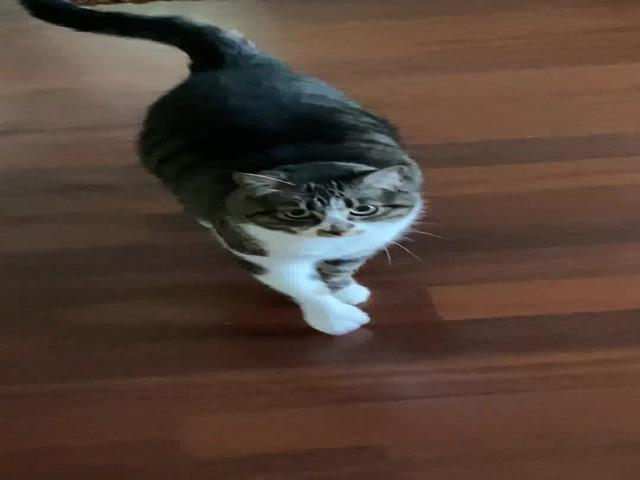playdoh: (20, 1, 424, 336)
